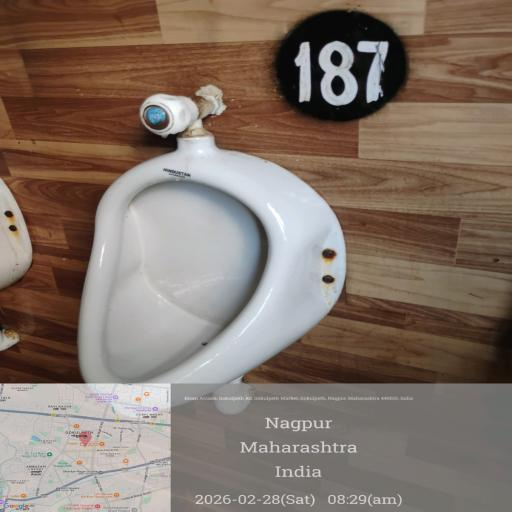clean_urinal: (40, 172, 371, 440)
